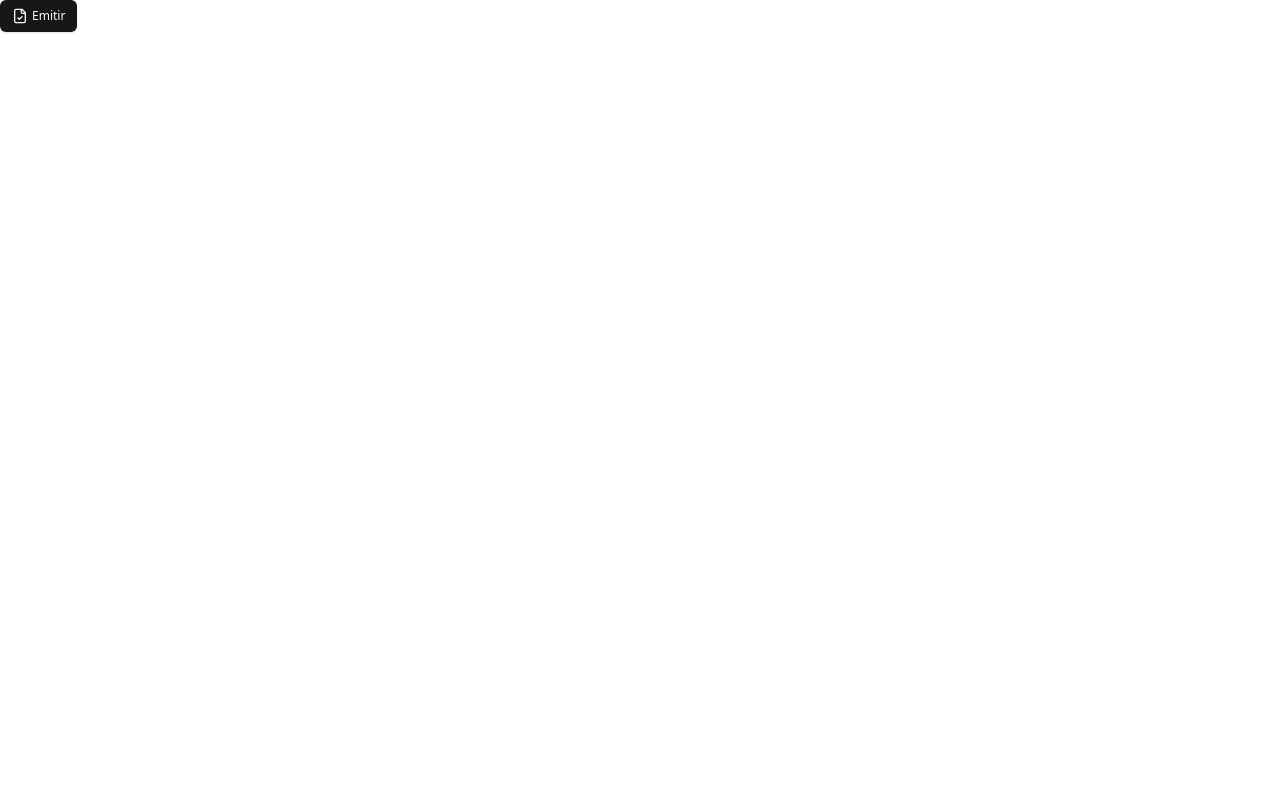
Test case: IssueButton › opens DEC-002 confirmation dialog on click
The image size is (1280, 800).
Click the button "Emitir" at (39, 16), box [0, 0, 77, 32]
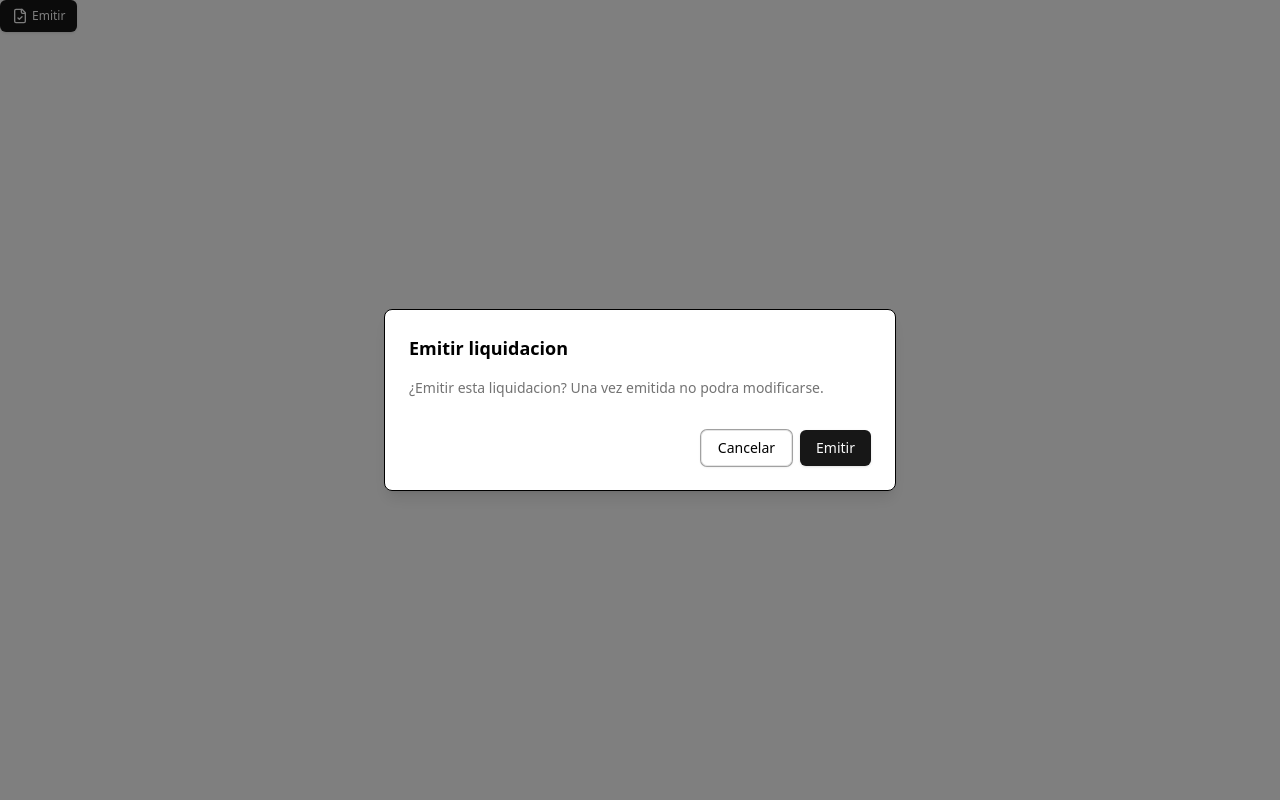
expect the heading "Emitir liquidacion" is shown: met, box [409, 336, 568, 360]
expect the text "¿Emitir esta liquidacion? Una vez emitida no podra modificarse." is shown: met, box [409, 378, 871, 398]
expect the button "Cancelar" is shown: met, box [701, 430, 792, 466]
